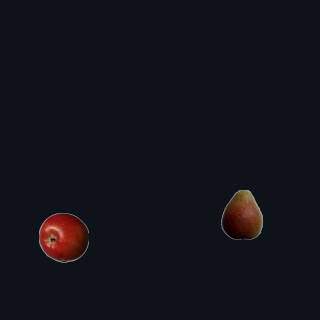Apple Braeburn: (38, 212, 88, 262)
Pear Forelle: (216, 189, 266, 239)
